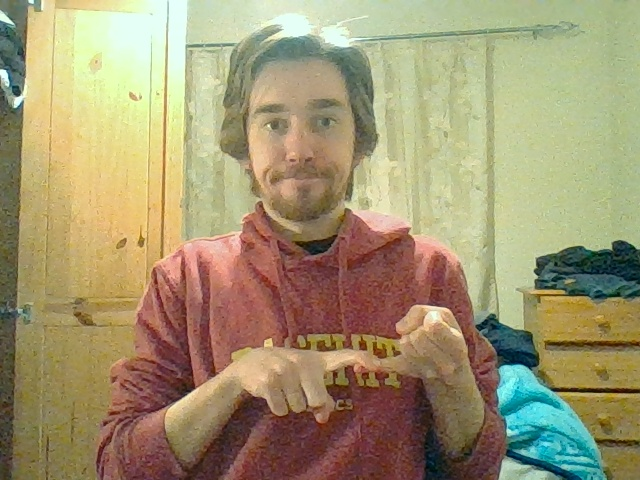step: (250, 304, 466, 425)
